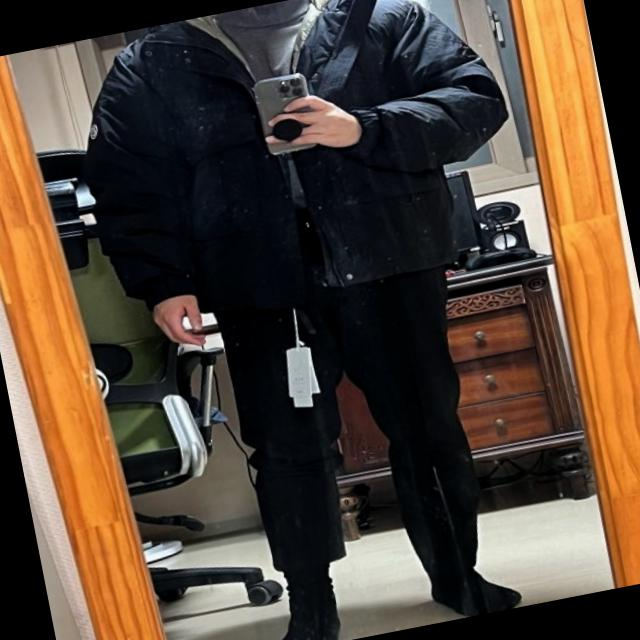padding: (57, 0, 533, 332)
slacks: (200, 179, 506, 605)
